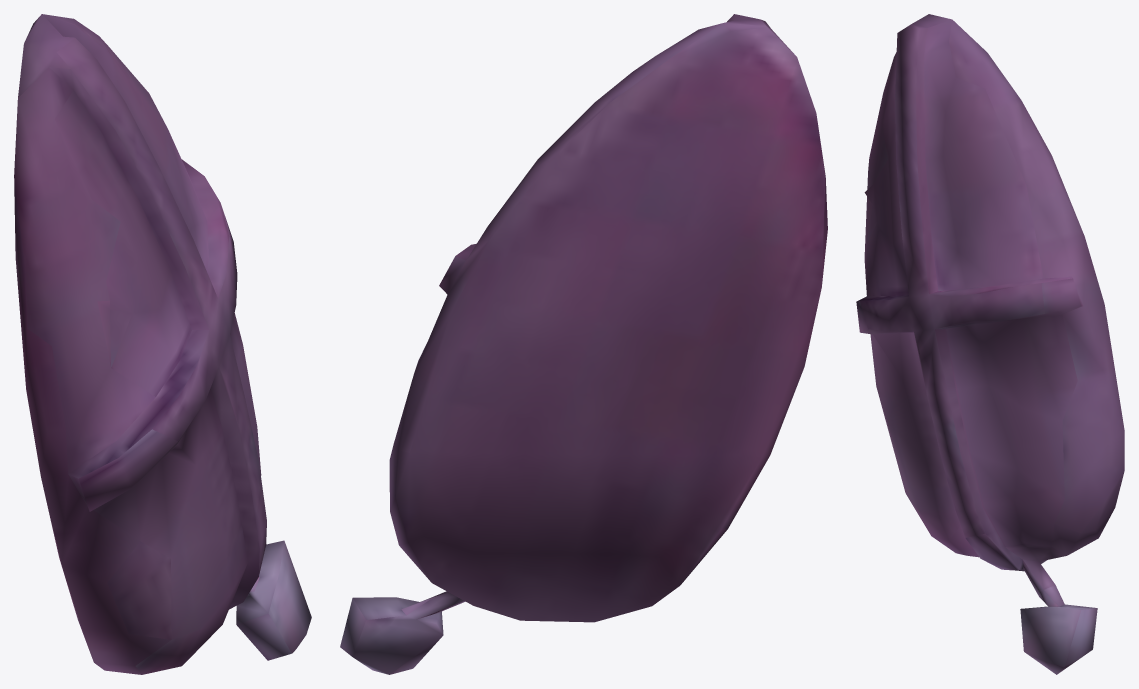
3 renders of one model, left to right at view 1: azimuth 30°, elevation 25°; view 2: azimuth 150°, elevation 25°; view 3: azimuth 270°, elevation 25°, orthographic. The views are drawn at different scales.
Visible parts, largest first — view 1: tripo_part_7; view 2: tripo_part_7; view 3: tripo_part_7.
Boxes of the visible parts, bbox=[...] form: tripo_part_7: bbox=[14, 14, 311, 674]; tripo_part_7: bbox=[340, 14, 827, 674]; tripo_part_7: bbox=[856, 14, 1124, 674].
Size of the model in its own units: 0.0693 by 0.1208 by 0.0541.
Materials: 1 (1 with a texture image).
